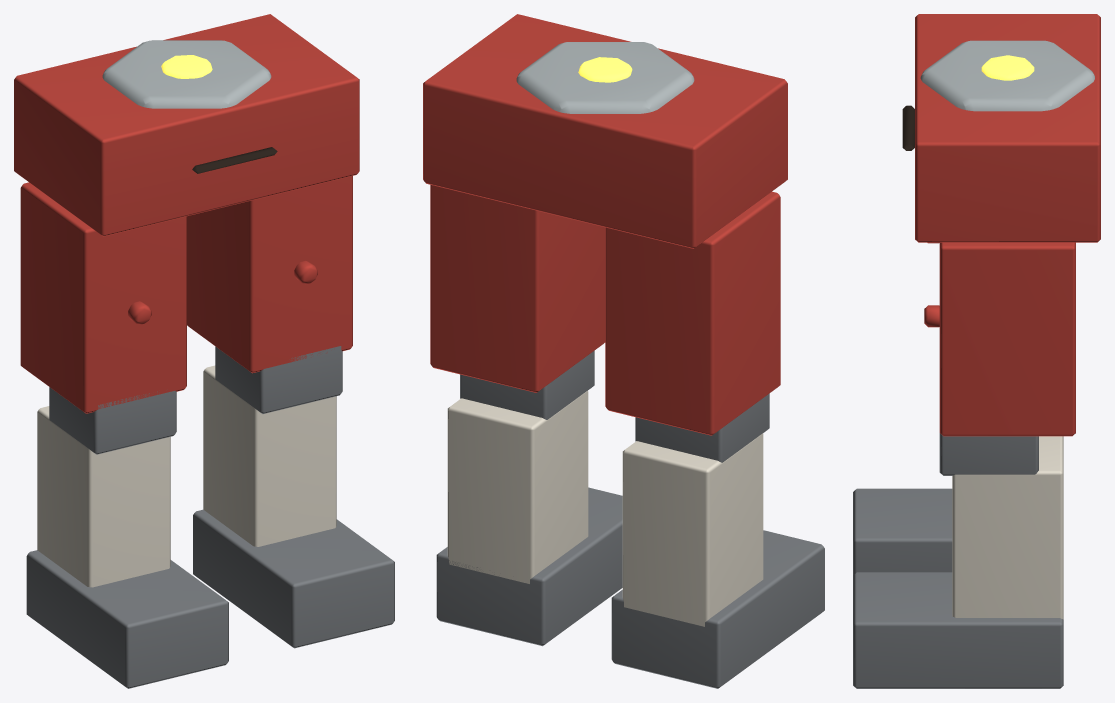
Rendered from everykit_standard_strider_legs.glb.
3 renders of one model, left to right at view 1: azimuth 30°, elevation 25°; view 2: azimuth 150°, elevation 25°; view 3: azimuth 270°, elevation 25°, orthographic. The views are drawn at different scales.
Visible parts, largest first — view 1: everykit_standard_strider_legs; view 2: everykit_standard_strider_legs; view 3: everykit_standard_strider_legs.
Boxes of the visible parts, x1=… form: everykit_standard_strider_legs: x1=14, y1=14, x2=394, y2=688; everykit_standard_strider_legs: x1=423, y1=14, x2=824, y2=688; everykit_standard_strider_legs: x1=853, y1=14, x2=1100, y2=688.
Bounding box in the file's own units: 0.52 × 0.9925 × 0.4.
1 material, 1 textured.
